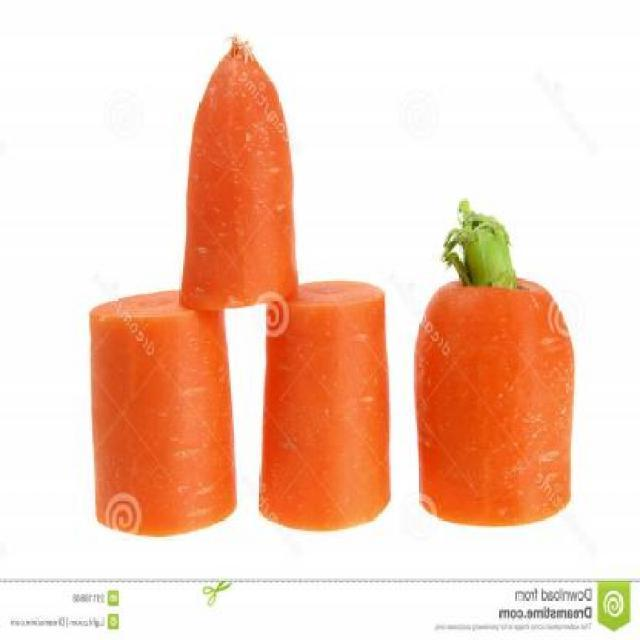carrot: (403, 196, 582, 533), (92, 289, 241, 540), (177, 33, 300, 315), (253, 284, 390, 530)
